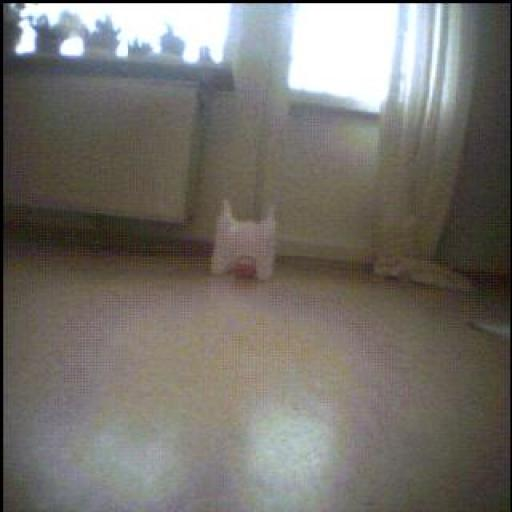Basket: (233, 250, 259, 285)
